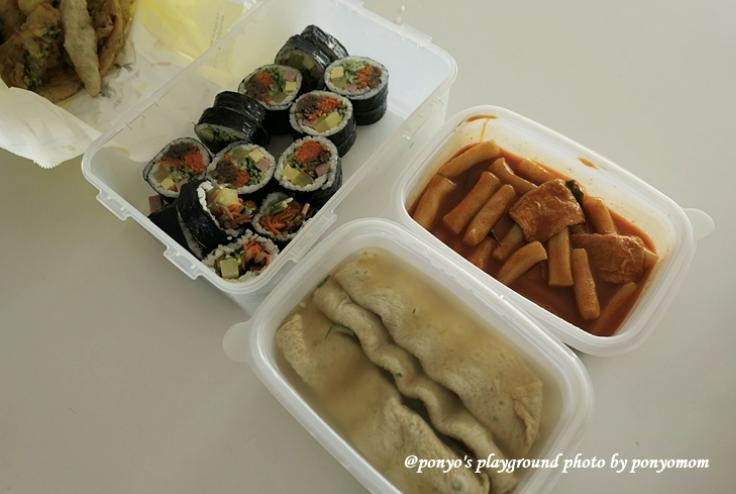Lunch Box: (82, 0, 457, 317), (224, 218, 593, 493), (383, 105, 713, 356)
